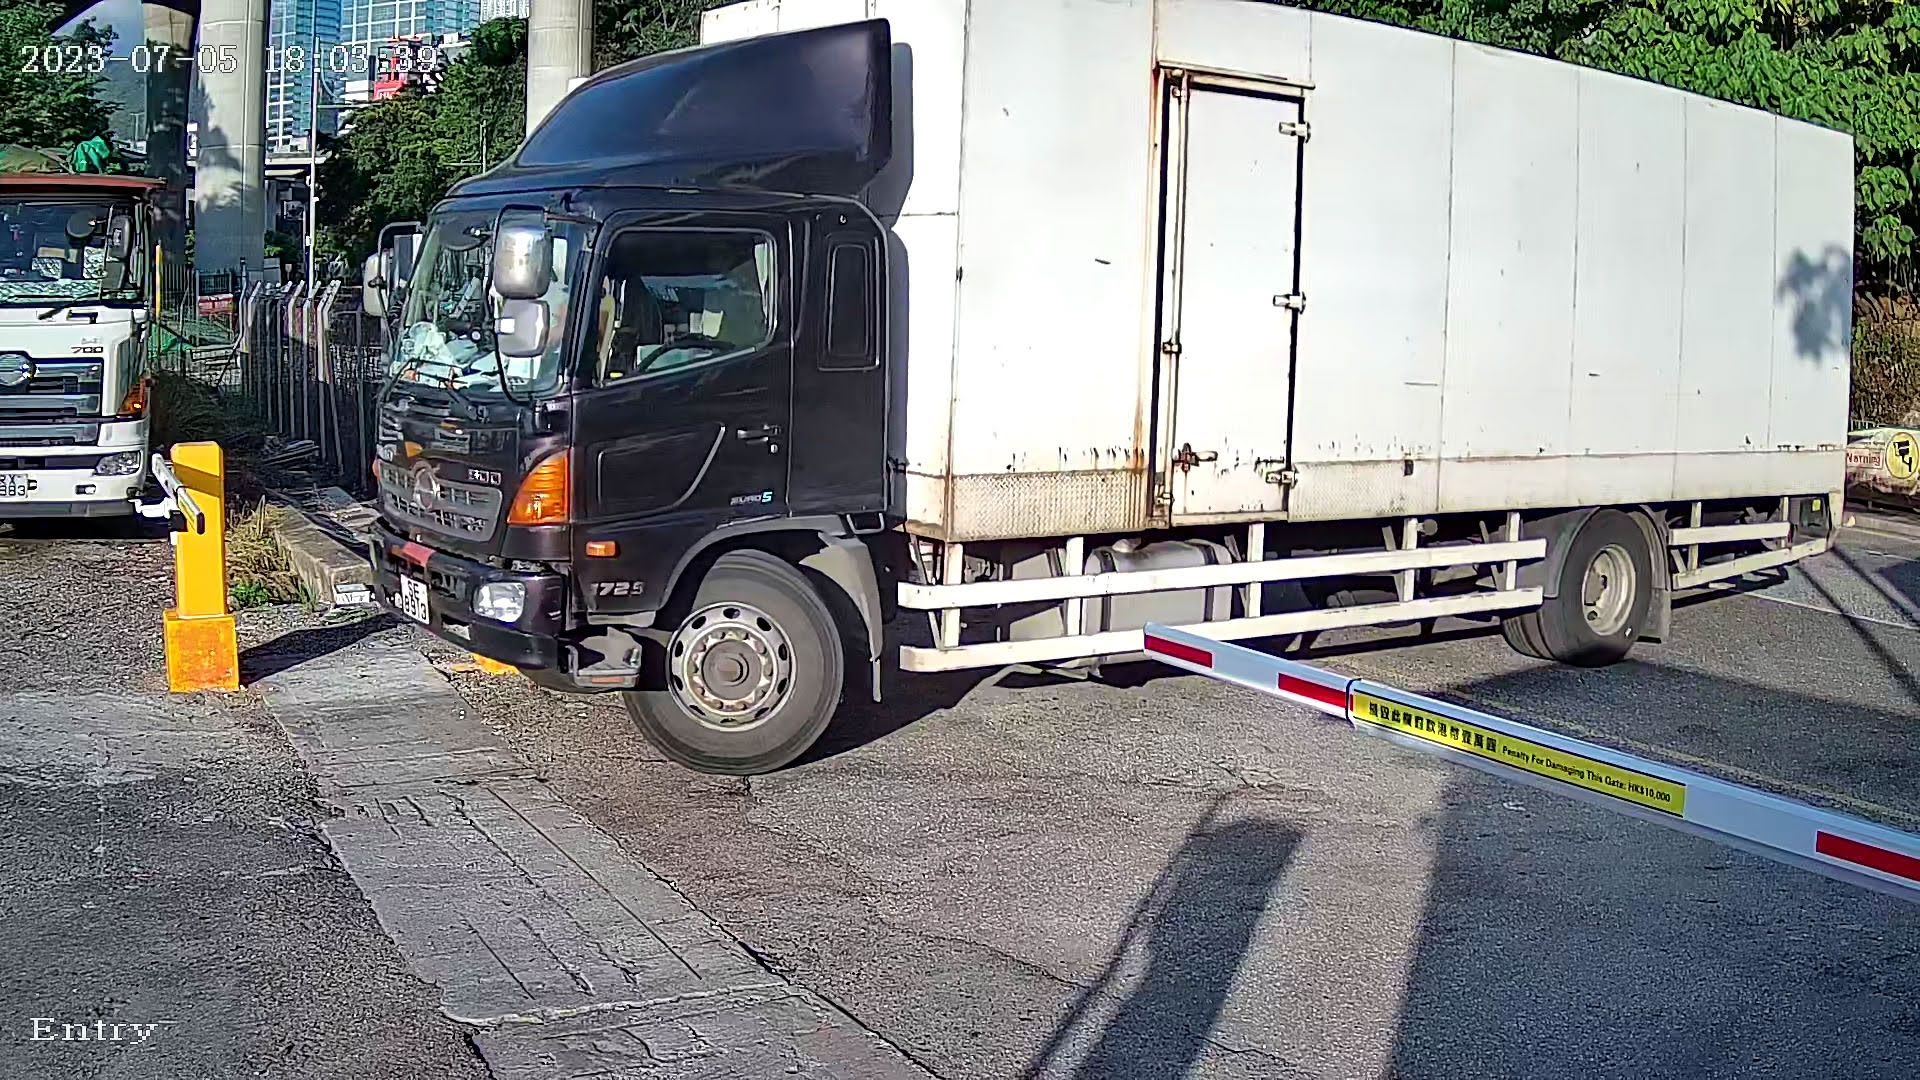truck_large: (334, 1, 1909, 799)
